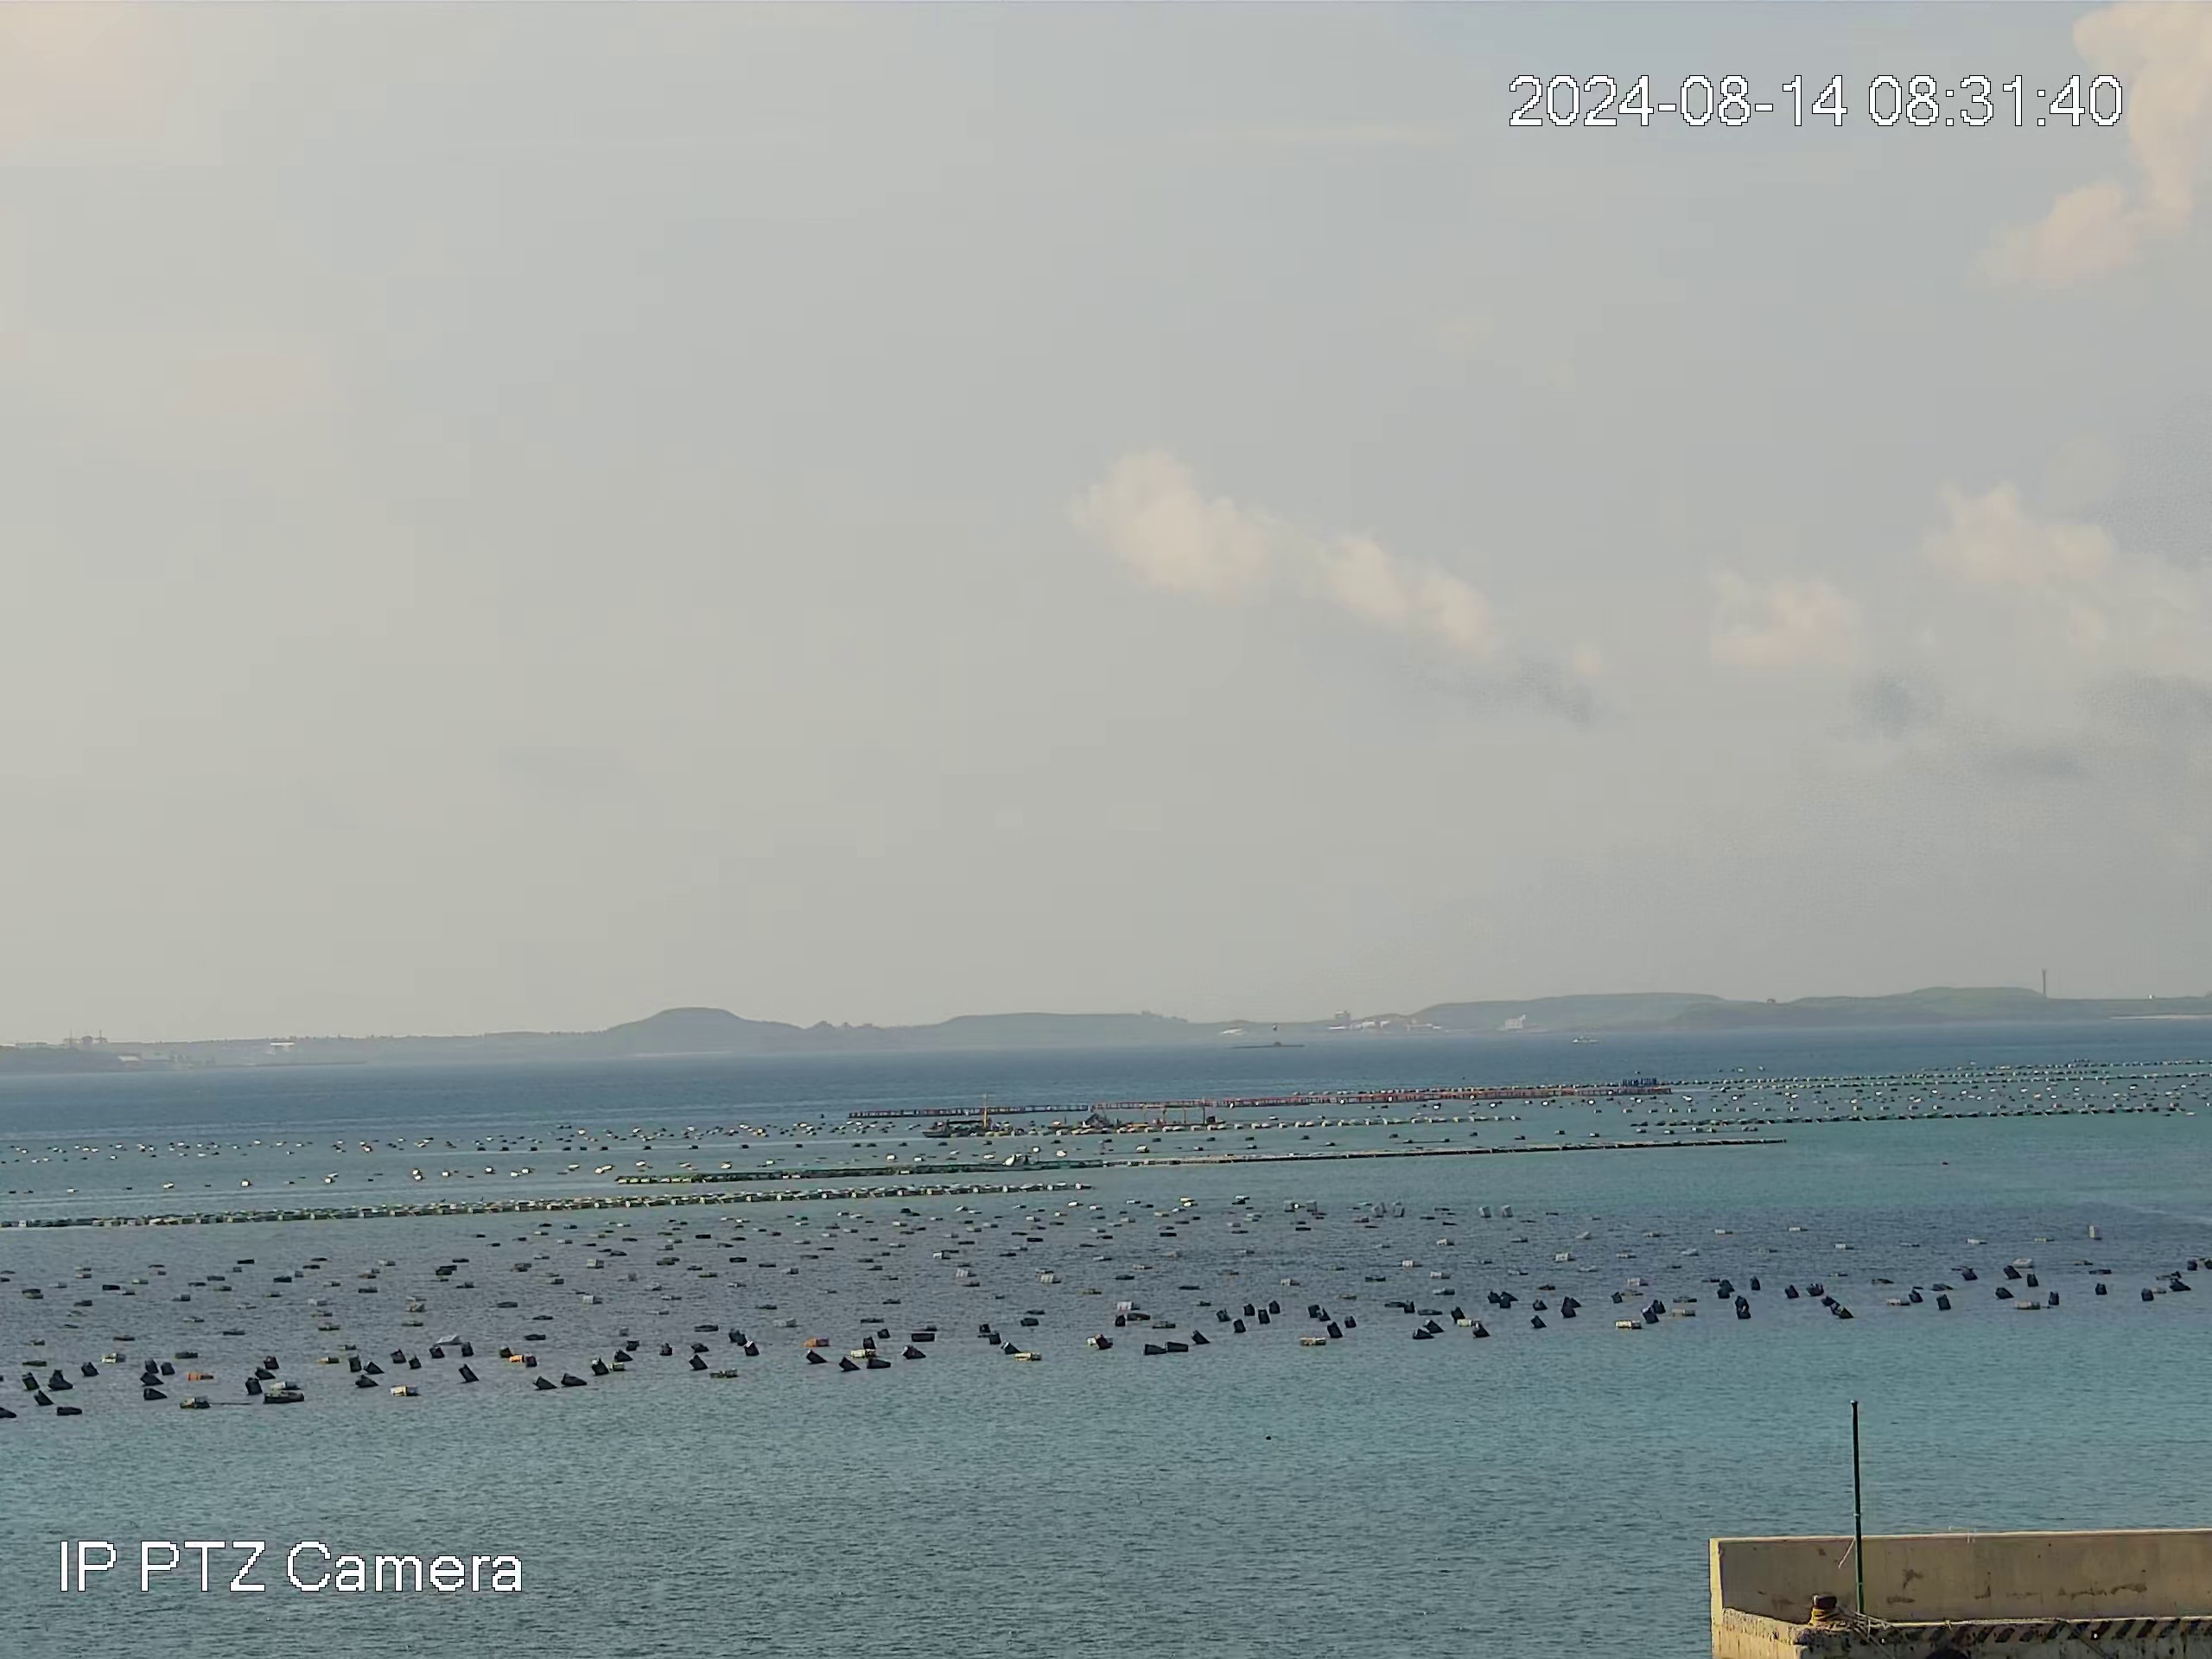boat: (921, 1117, 998, 1140)
